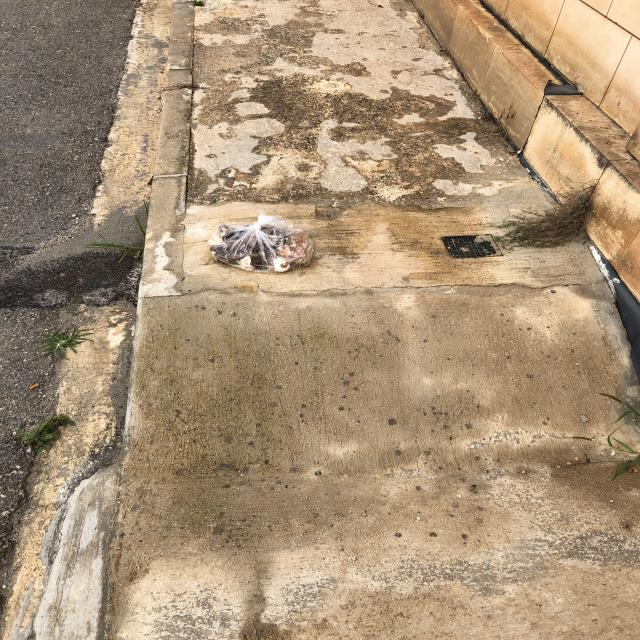Organic Waste -White Bag-: (209, 212, 315, 274)
